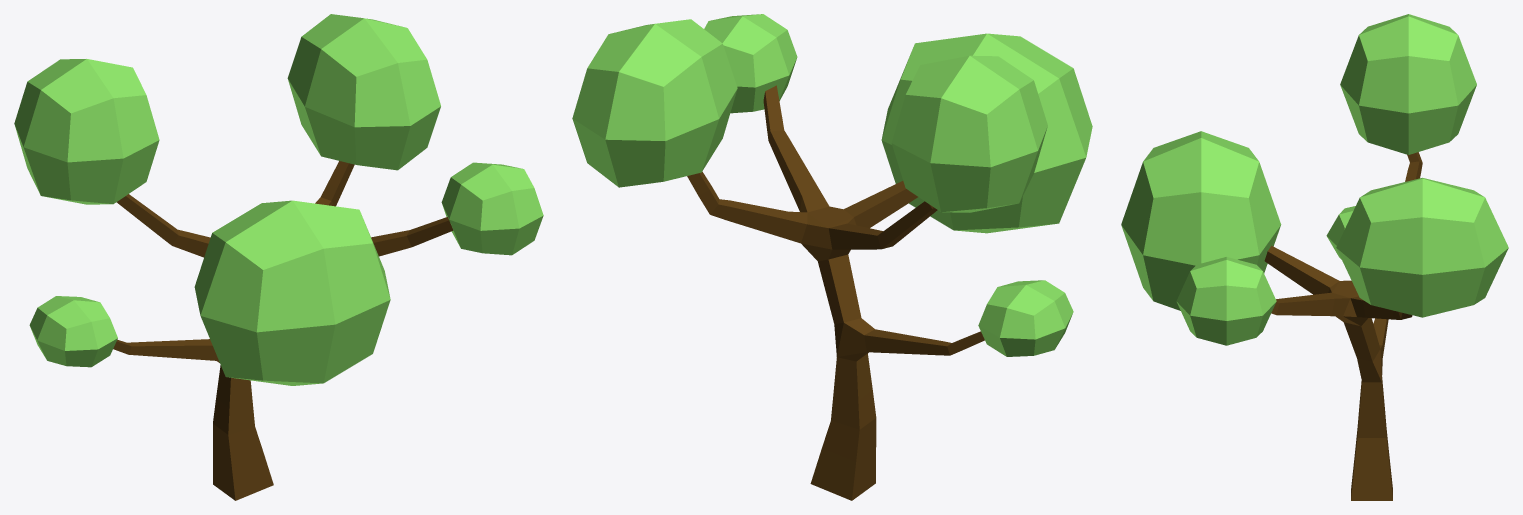
File: tree_2_.fbx
3 views of the same model, side by side, from view 1: azimuth 30°, elevation 25°; view 2: azimuth 150°, elevation 25°; view 3: azimuth 270°, elevation 25° (orthographic). The views are drawn at different scales.
Parts seen in each view (by area): view 1: Cube.001; view 2: Cube.001; view 3: Cube.001.
Part boxes in pixels (x1,y1,x2,y2): Cube.001: [14, 14, 543, 500]; Cube.001: [572, 14, 1092, 500]; Cube.001: [1121, 14, 1508, 500].
Bounding box in the file's own units: 938 × 954 × 800.
